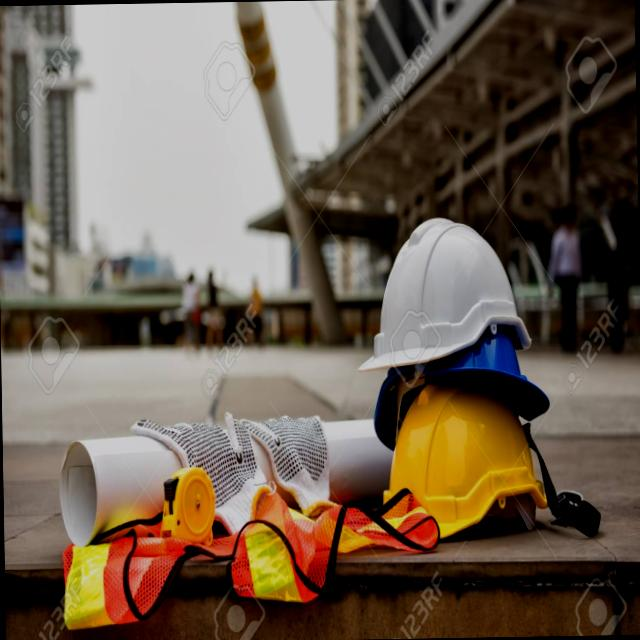helmet: (374, 365, 564, 543), (346, 200, 530, 369)
